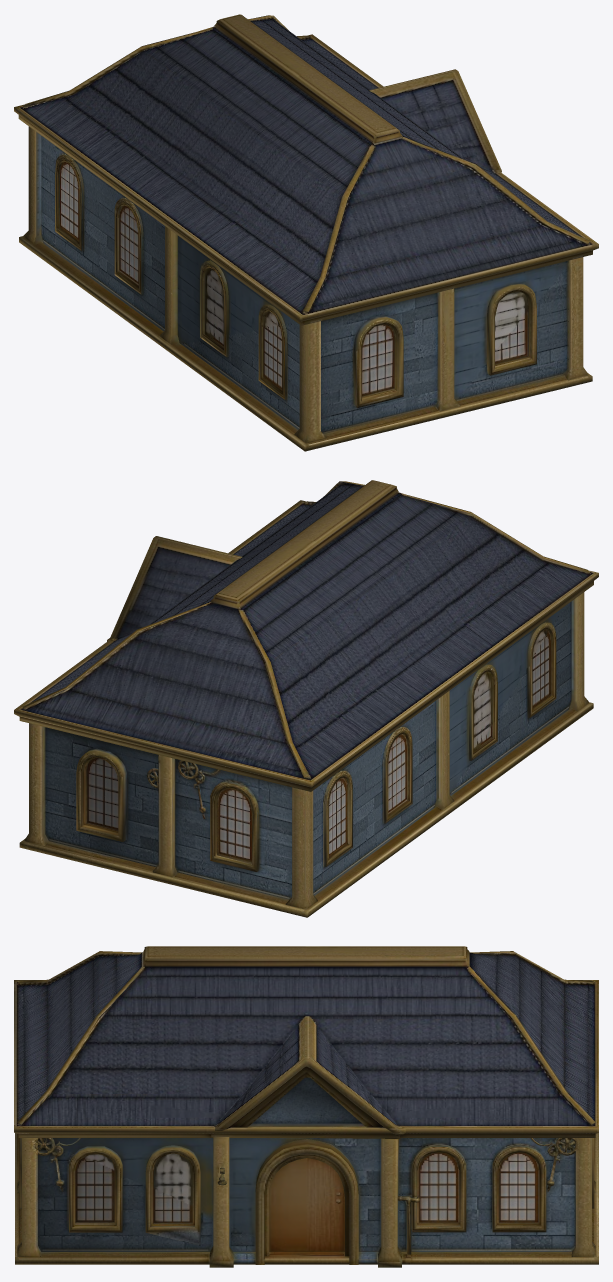
The model's file is tripo_convert_8f595b3a-1324-4f1c-8b63-583cda1fd9e4.fbx.
The picture shows the model from 3 angles, top to bottom: view 1: azimuth 30°, elevation 25°; view 2: azimuth 150°, elevation 25°; view 3: azimuth 270°, elevation 25°; orthographic projection. The views are drawn at different scales.
Parts seen in each view (by area): view 1: tripo_node_8f595b3a; view 2: tripo_node_8f595b3a; view 3: tripo_node_8f595b3a.
Part boxes in pixels (x1,y1,x2,y2): tripo_node_8f595b3a: (14, 14, 598, 451); tripo_node_8f595b3a: (14, 480, 598, 917); tripo_node_8f595b3a: (14, 946, 598, 1267).
Size of the model in its own units: 0.6152 by 0.459 by 0.998.
1 material, 1 textured.
